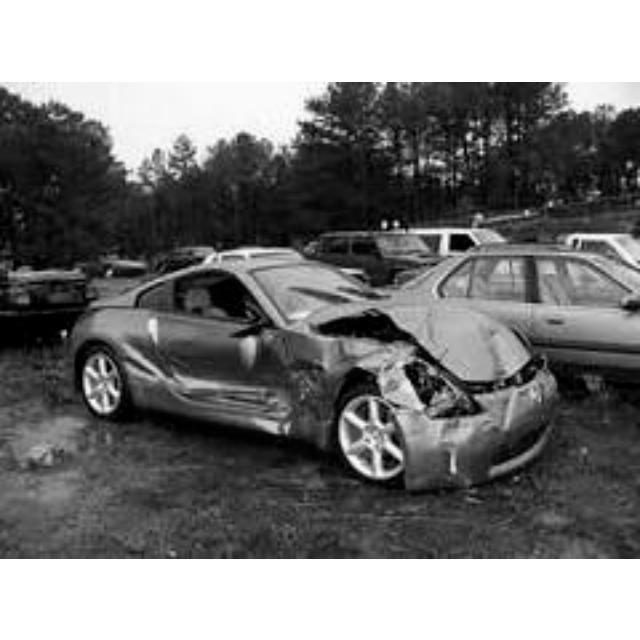Headlight-damage: (395, 353, 488, 417)
bonnet-dent: (389, 292, 541, 382)
doorouter-dent: (155, 324, 275, 417)
fender-dent: (283, 335, 392, 420)
front-bumper-dent: (445, 390, 573, 486)
quaterpanel-dent: (72, 313, 154, 371)
